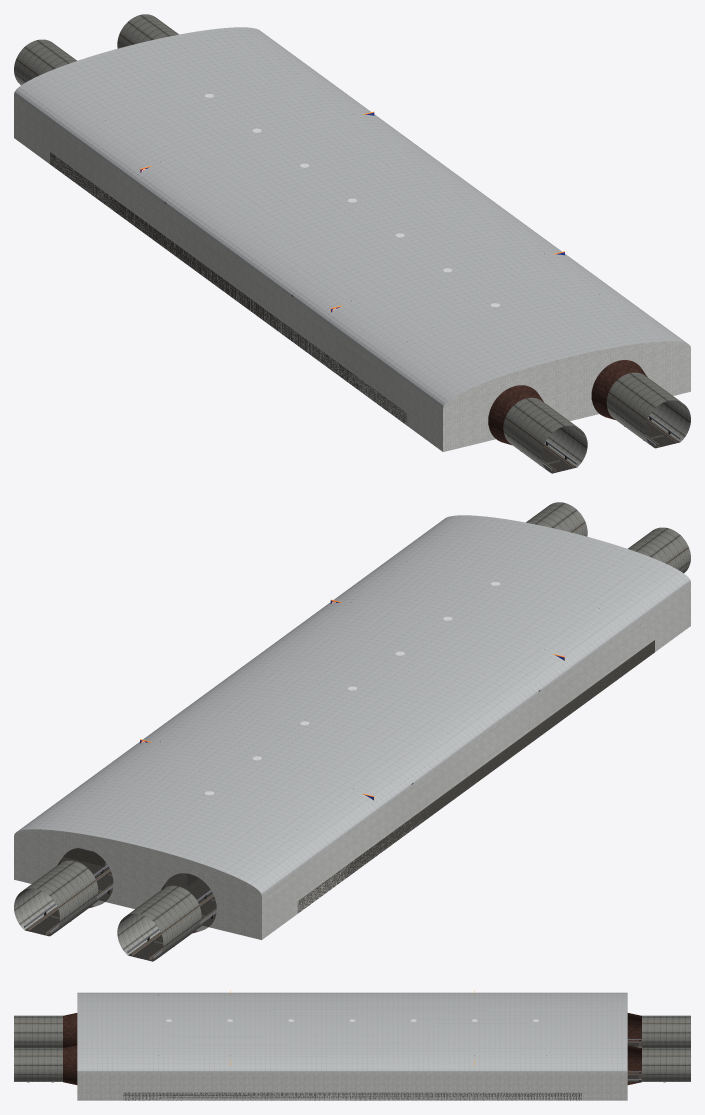
Rendered from station_st-enoch.glb.
3 views of the same model, one above another, from view 1: azimuth 30°, elevation 25°; view 2: azimuth 150°, elevation 25°; view 3: azimuth 270°, elevation 25° (orthographic). The views are drawn at different scales.
Visible parts, largest first — view 1: hall_shell, end_walls; view 2: hall_shell, end_walls; view 3: hall_shell, end_walls.
Part boxes in pixels (x1,y1,x2,y2): hall_shell: (14, 27, 687, 472); end_walls: (14, 14, 690, 473); hall_shell: (17, 515, 690, 960); end_walls: (14, 502, 690, 961); hall_shell: (27, 992, 665, 1100); end_walls: (14, 1013, 690, 1084).
Bounding box in the file's own units: 18 × 5.05 × 66.4.
Materials: 32 (22 with a texture image).
